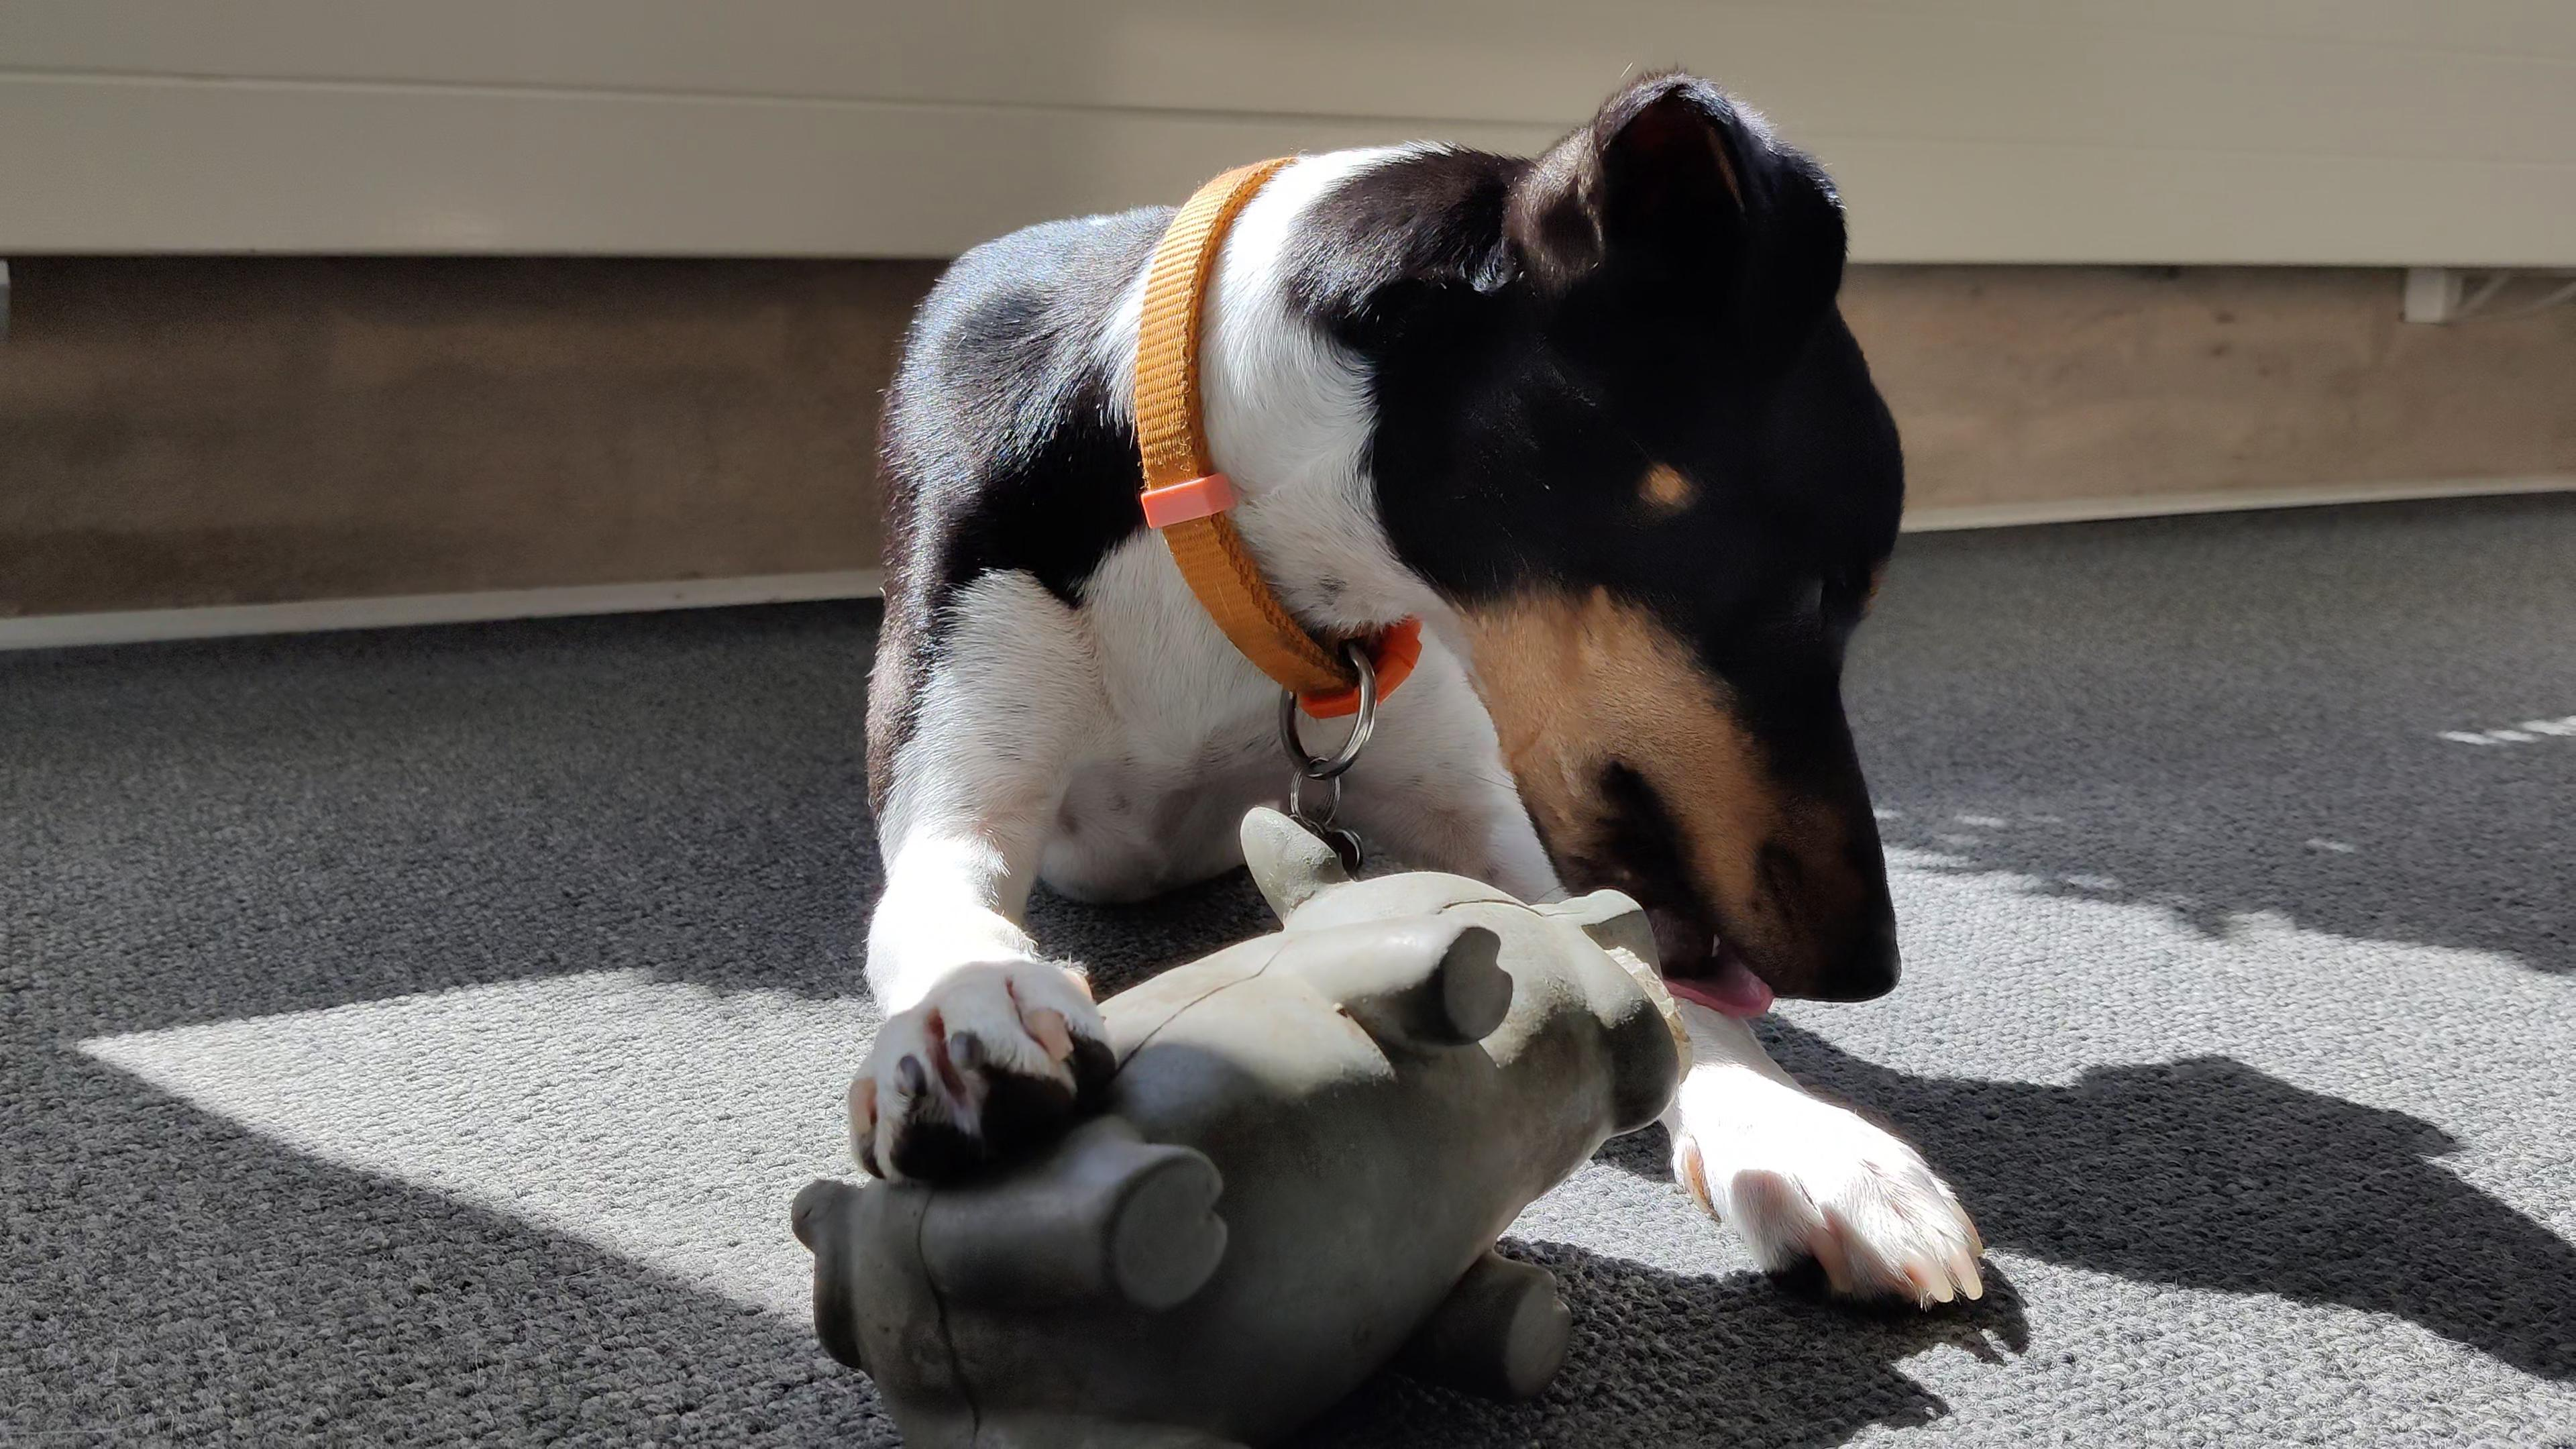Dog: (840, 62, 2006, 1311)
